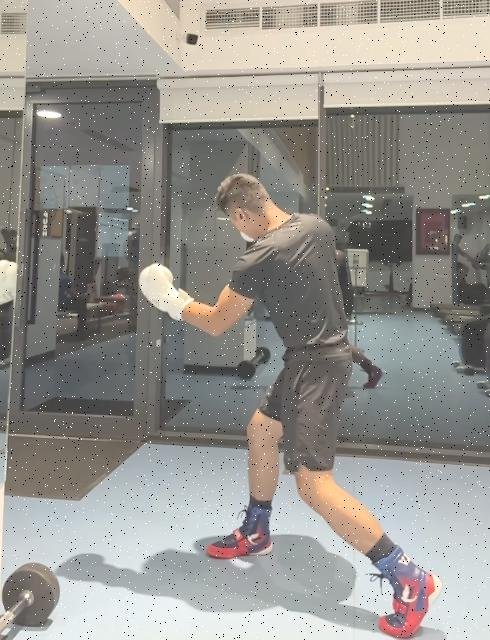punch: (137, 172, 443, 640)
